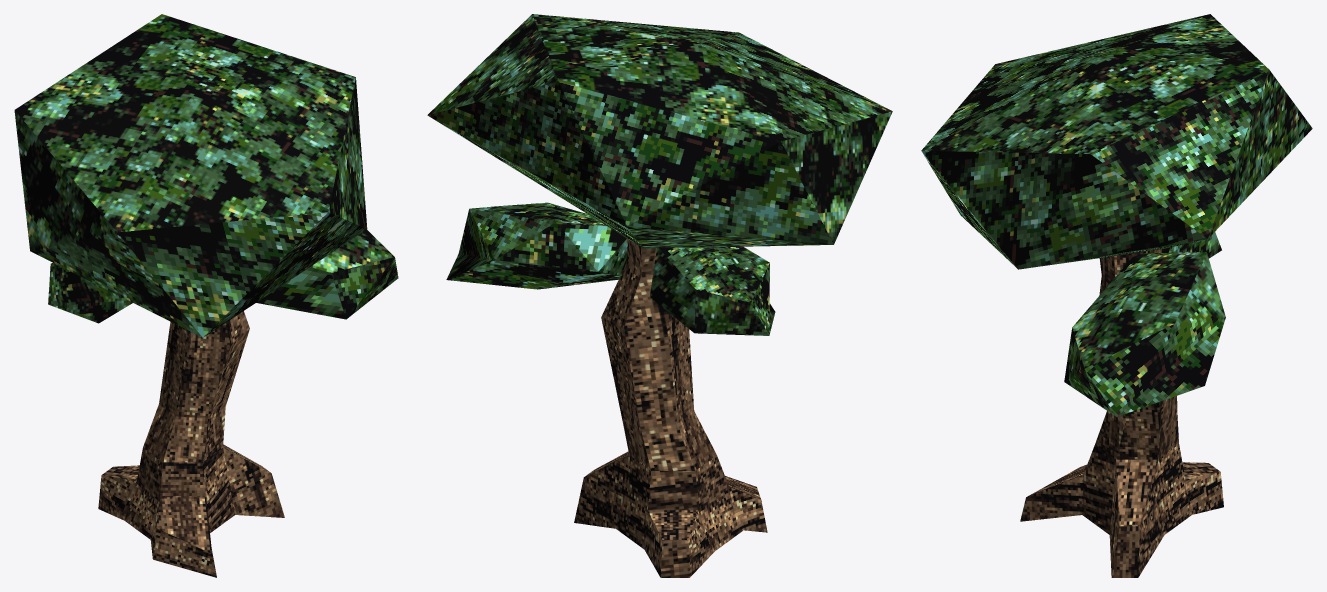
Rendered from tree 1.fbx.
3 renders of one model, left to right at view 1: azimuth 30°, elevation 25°; view 2: azimuth 150°, elevation 25°; view 3: azimuth 270°, elevation 25°, orthographic. The views are drawn at different scales.
Visible parts, largest first — view 1: Cube.013; view 2: Cube.013; view 3: Cube.013.
Part boxes in pixels (x1,y1,x2,y2): Cube.013: (14, 14, 398, 577); Cube.013: (427, 14, 892, 577); Cube.013: (921, 14, 1312, 577).
Bounding box in the file's own units: 786 × 975 × 714.
